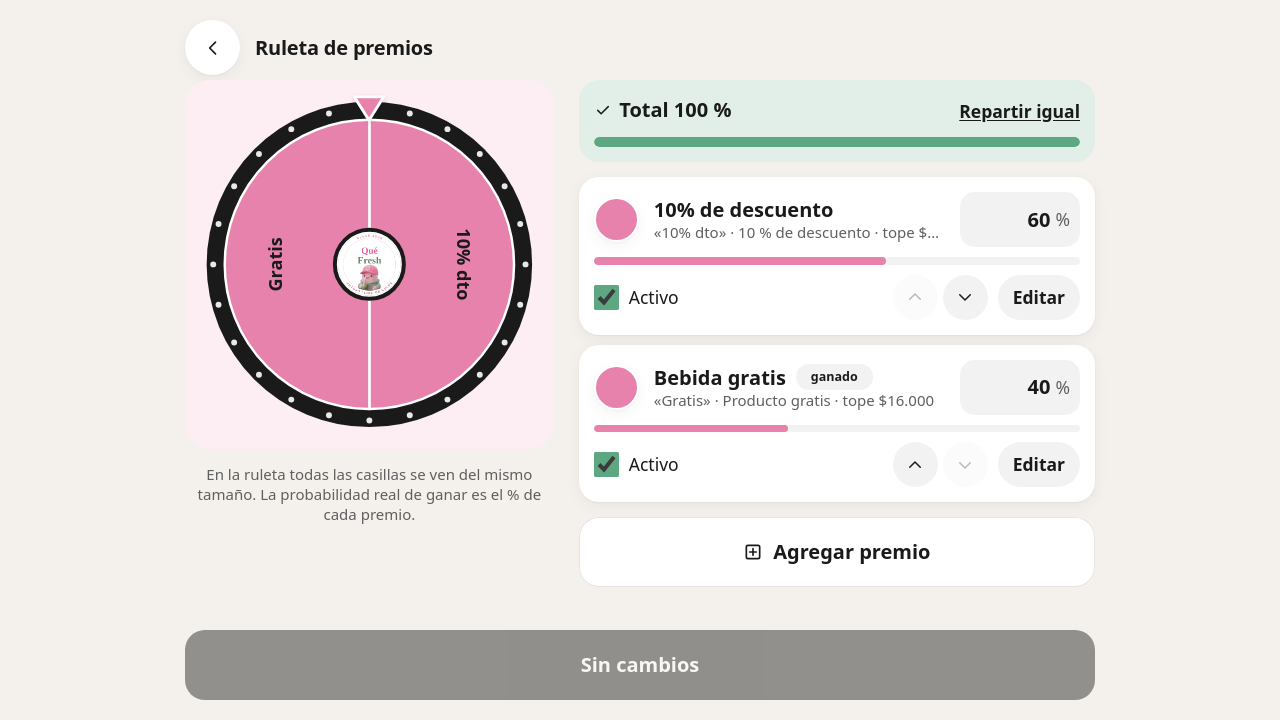
Test case: Ruleta de premios (editor) › blocks saving until the active prizes add up to 100 %, then sends the wheel
Replace the text in the field named "Probabilidad de 10% de descuento" with "50": (1010, 220) [970,204,1050,234]
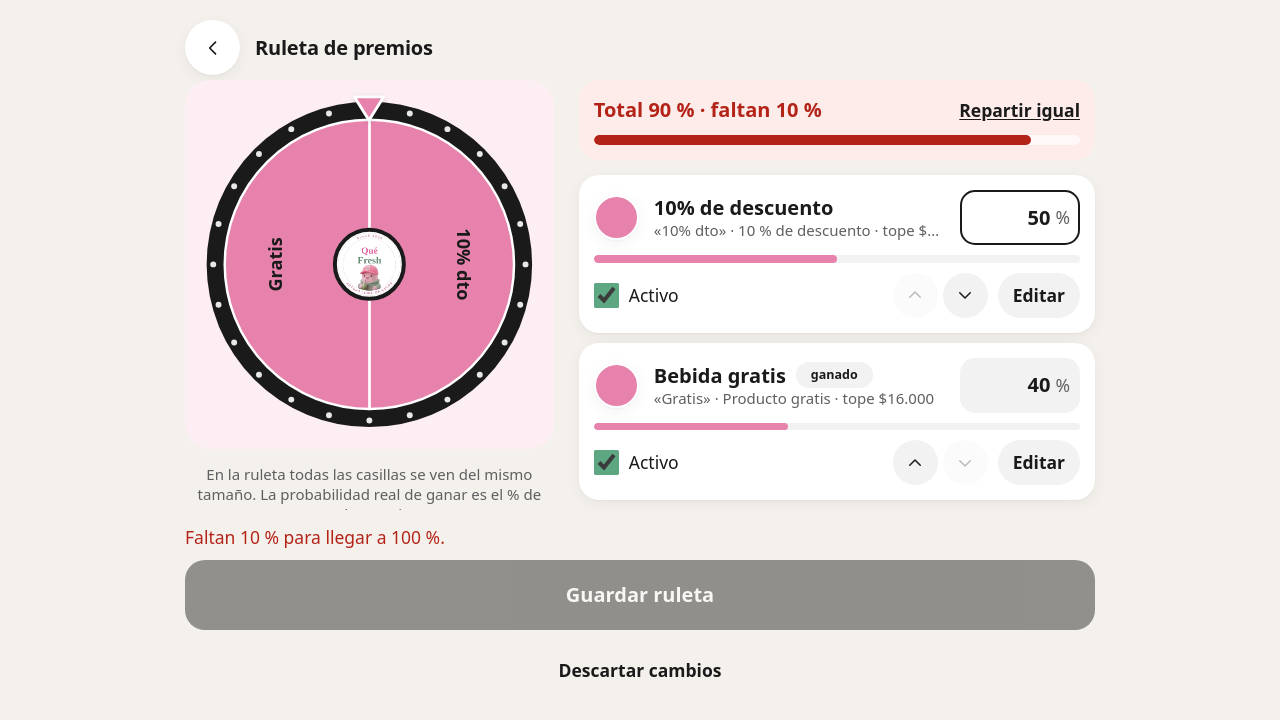
Expected: the button "Guardar ruleta" is disabled, [185,560,1095,630]
Now the message "Total 90 % · faltan 10 %" is shown, box [594,95,822,125]
Now the message "Faltan 10 % para llegar a 100 %." is shown, box [185,525,445,549]
Replace the text in the field named "Probabilidad de Bebida gratis" with "50": (1010, 385) [970,370,1050,400]
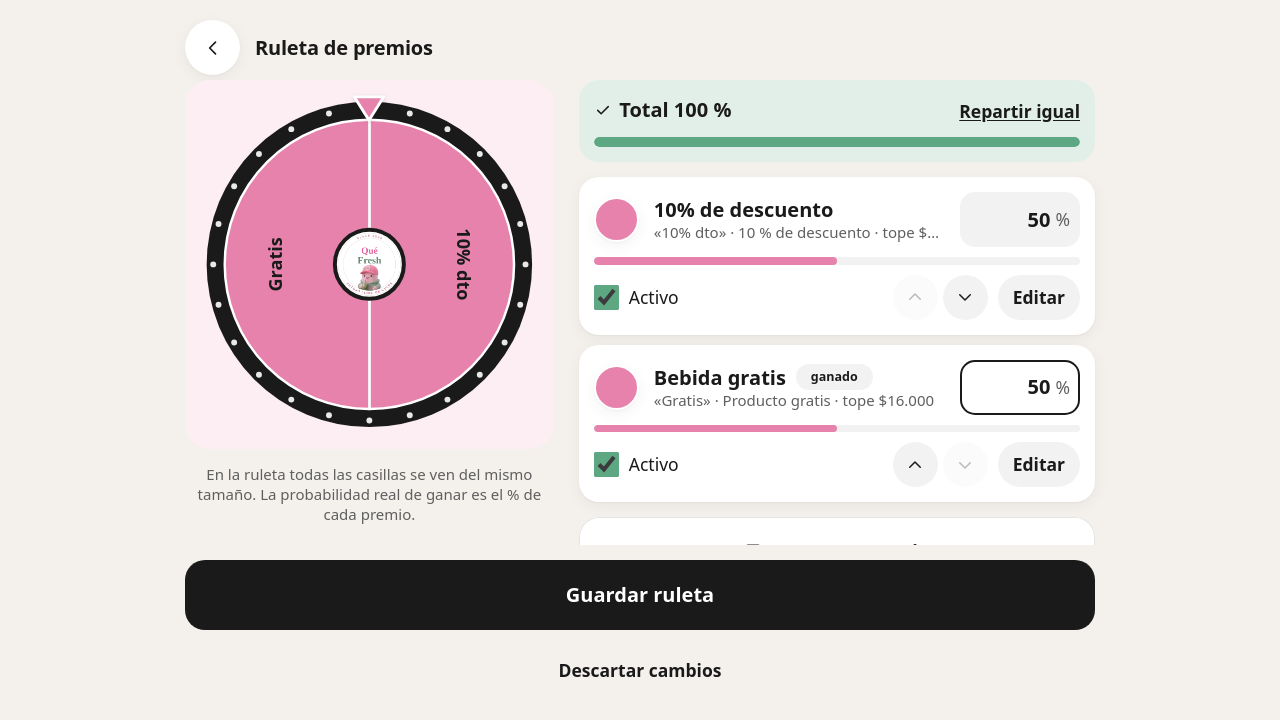
Click the button "Guardar ruleta": (640, 595) [185,560,1095,630]
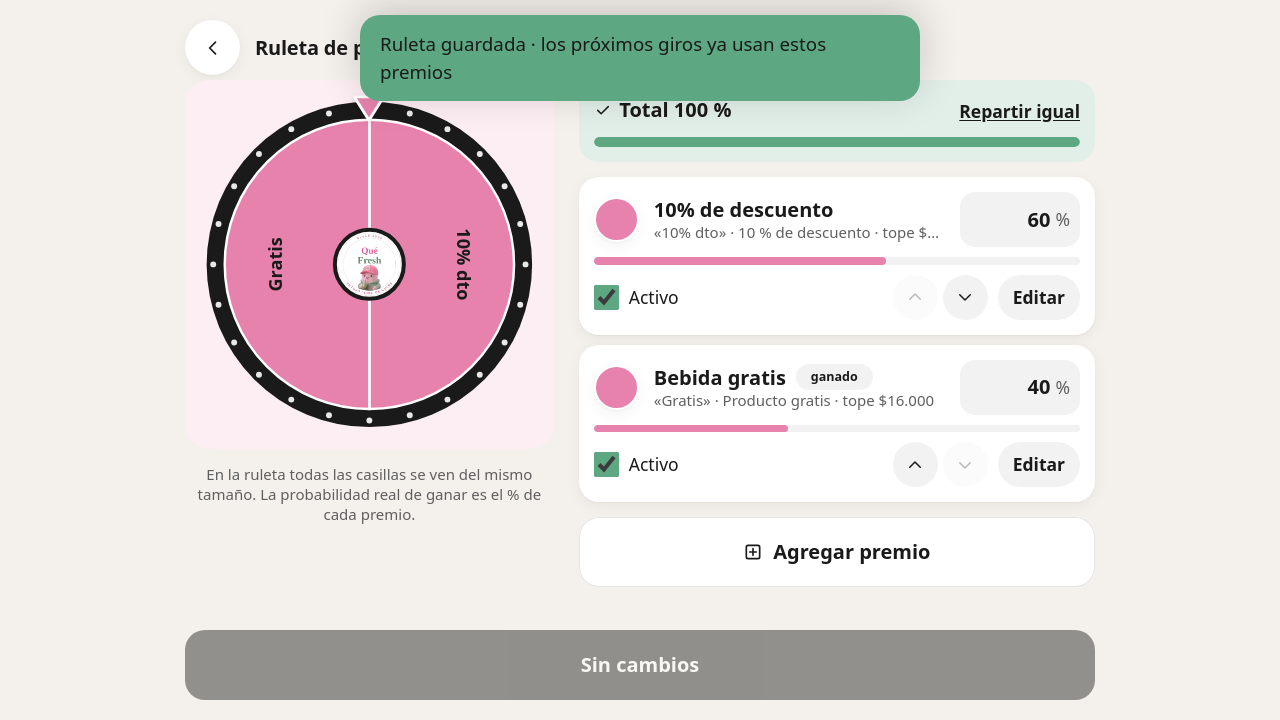
Now the button "Ruleta guardada · los próximos giros ya usan estos premios" is shown, box [360,15,920,101]
